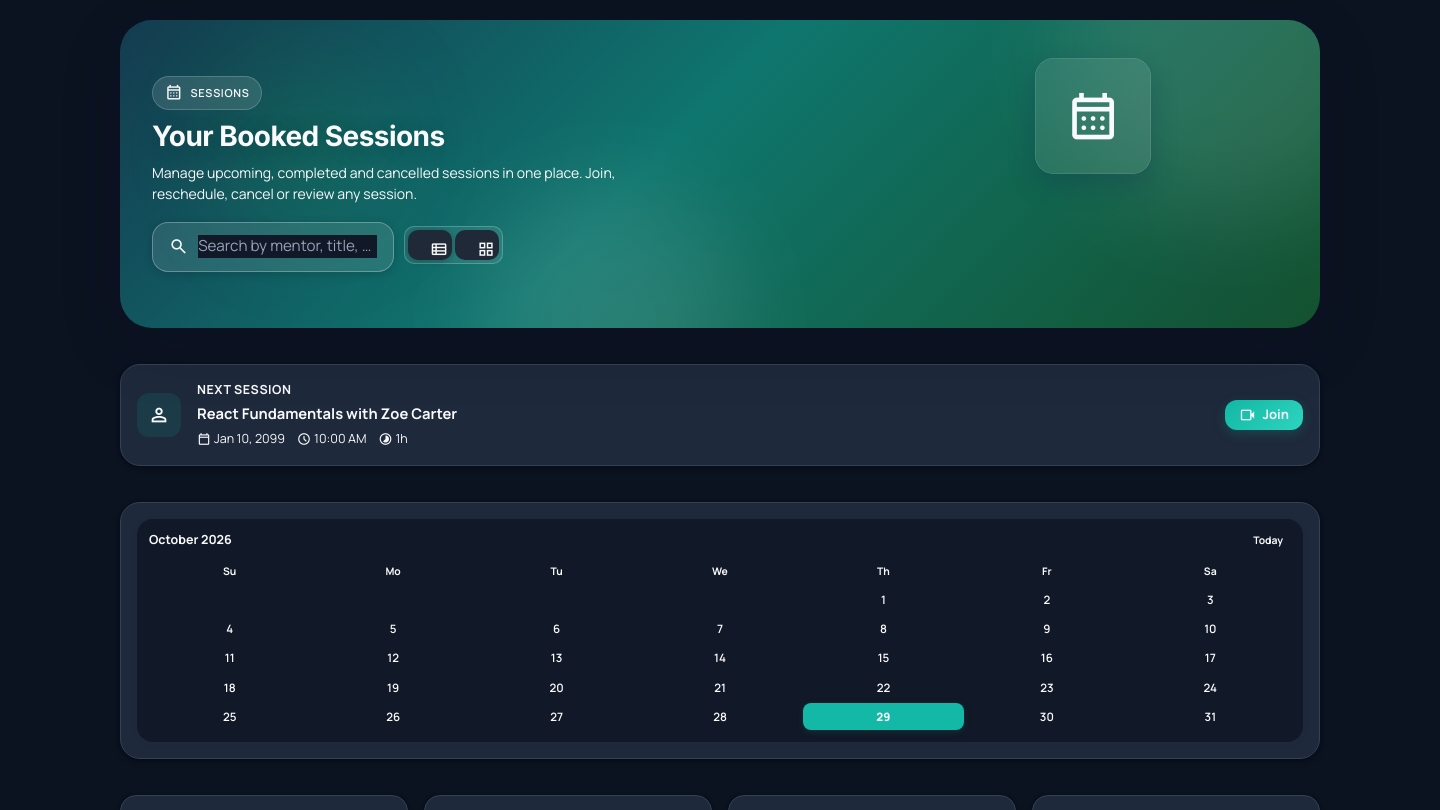
Test: LearnerSessionsPage — Booked Sessions › switches between list and grid layouts
Click the button named "grid view": (477, 245) [455, 230, 499, 260]
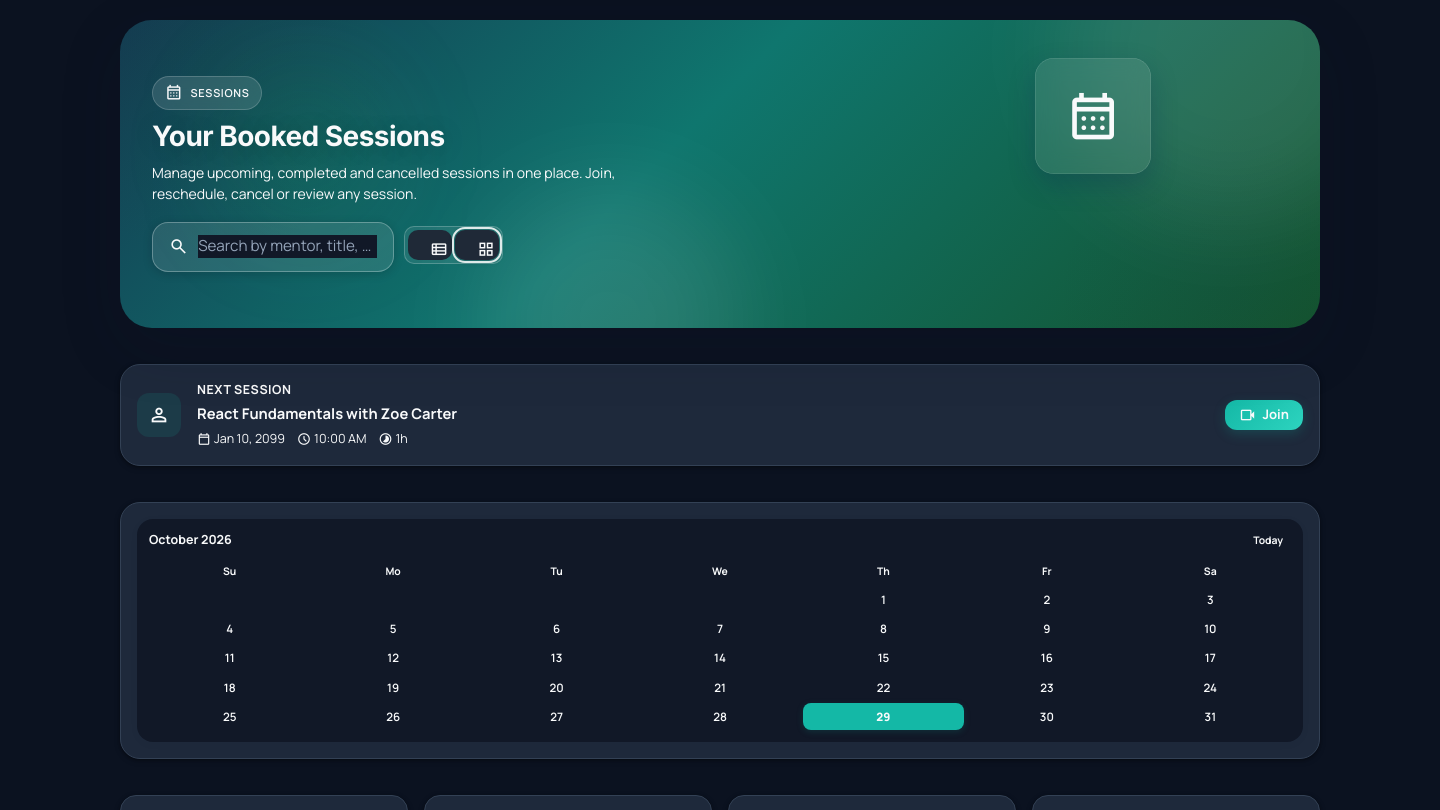
Click the button named "list view": (430, 245) [408, 230, 452, 260]
(page scrolled)
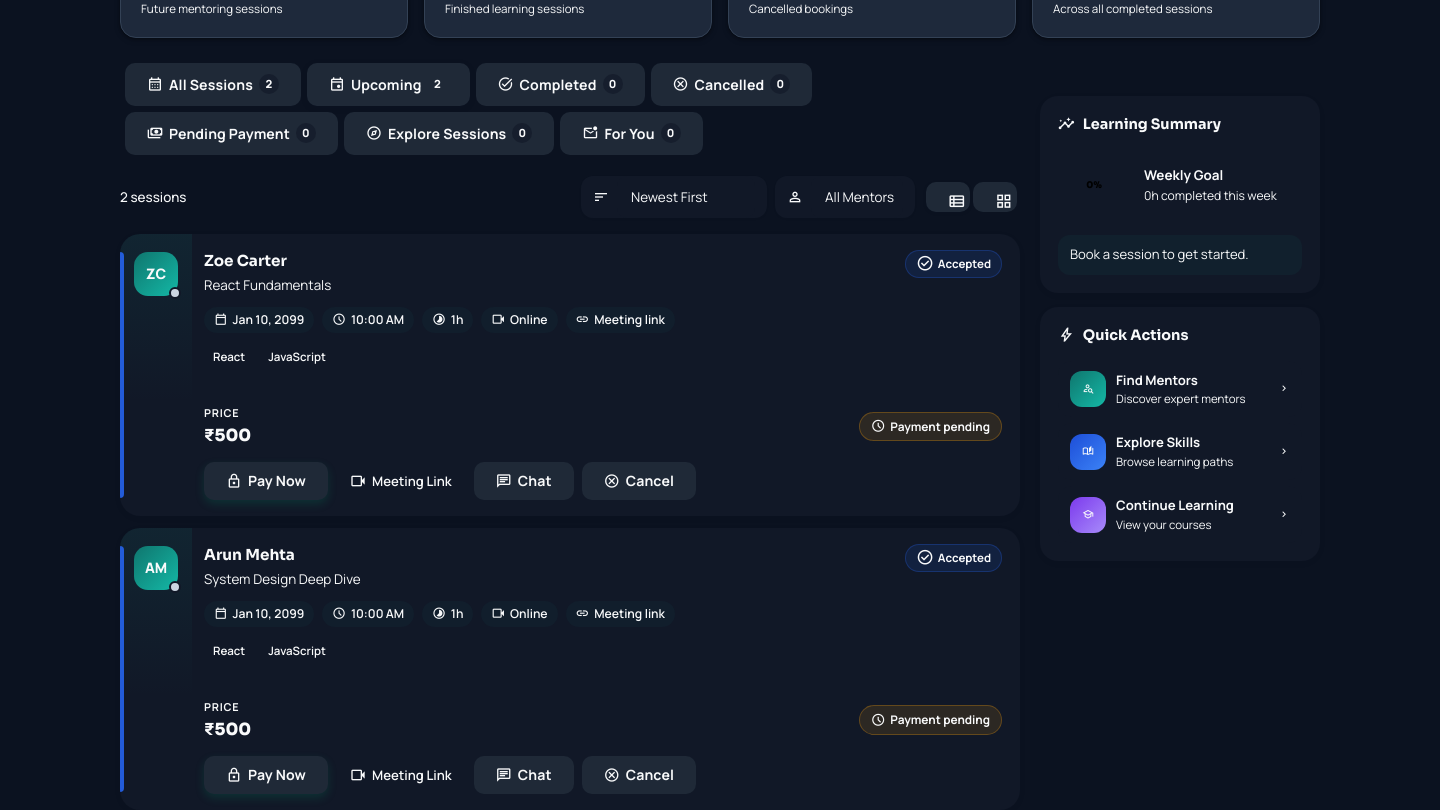
Now the element with class "ls-list" is shown, box [120, 234, 1020, 809]
